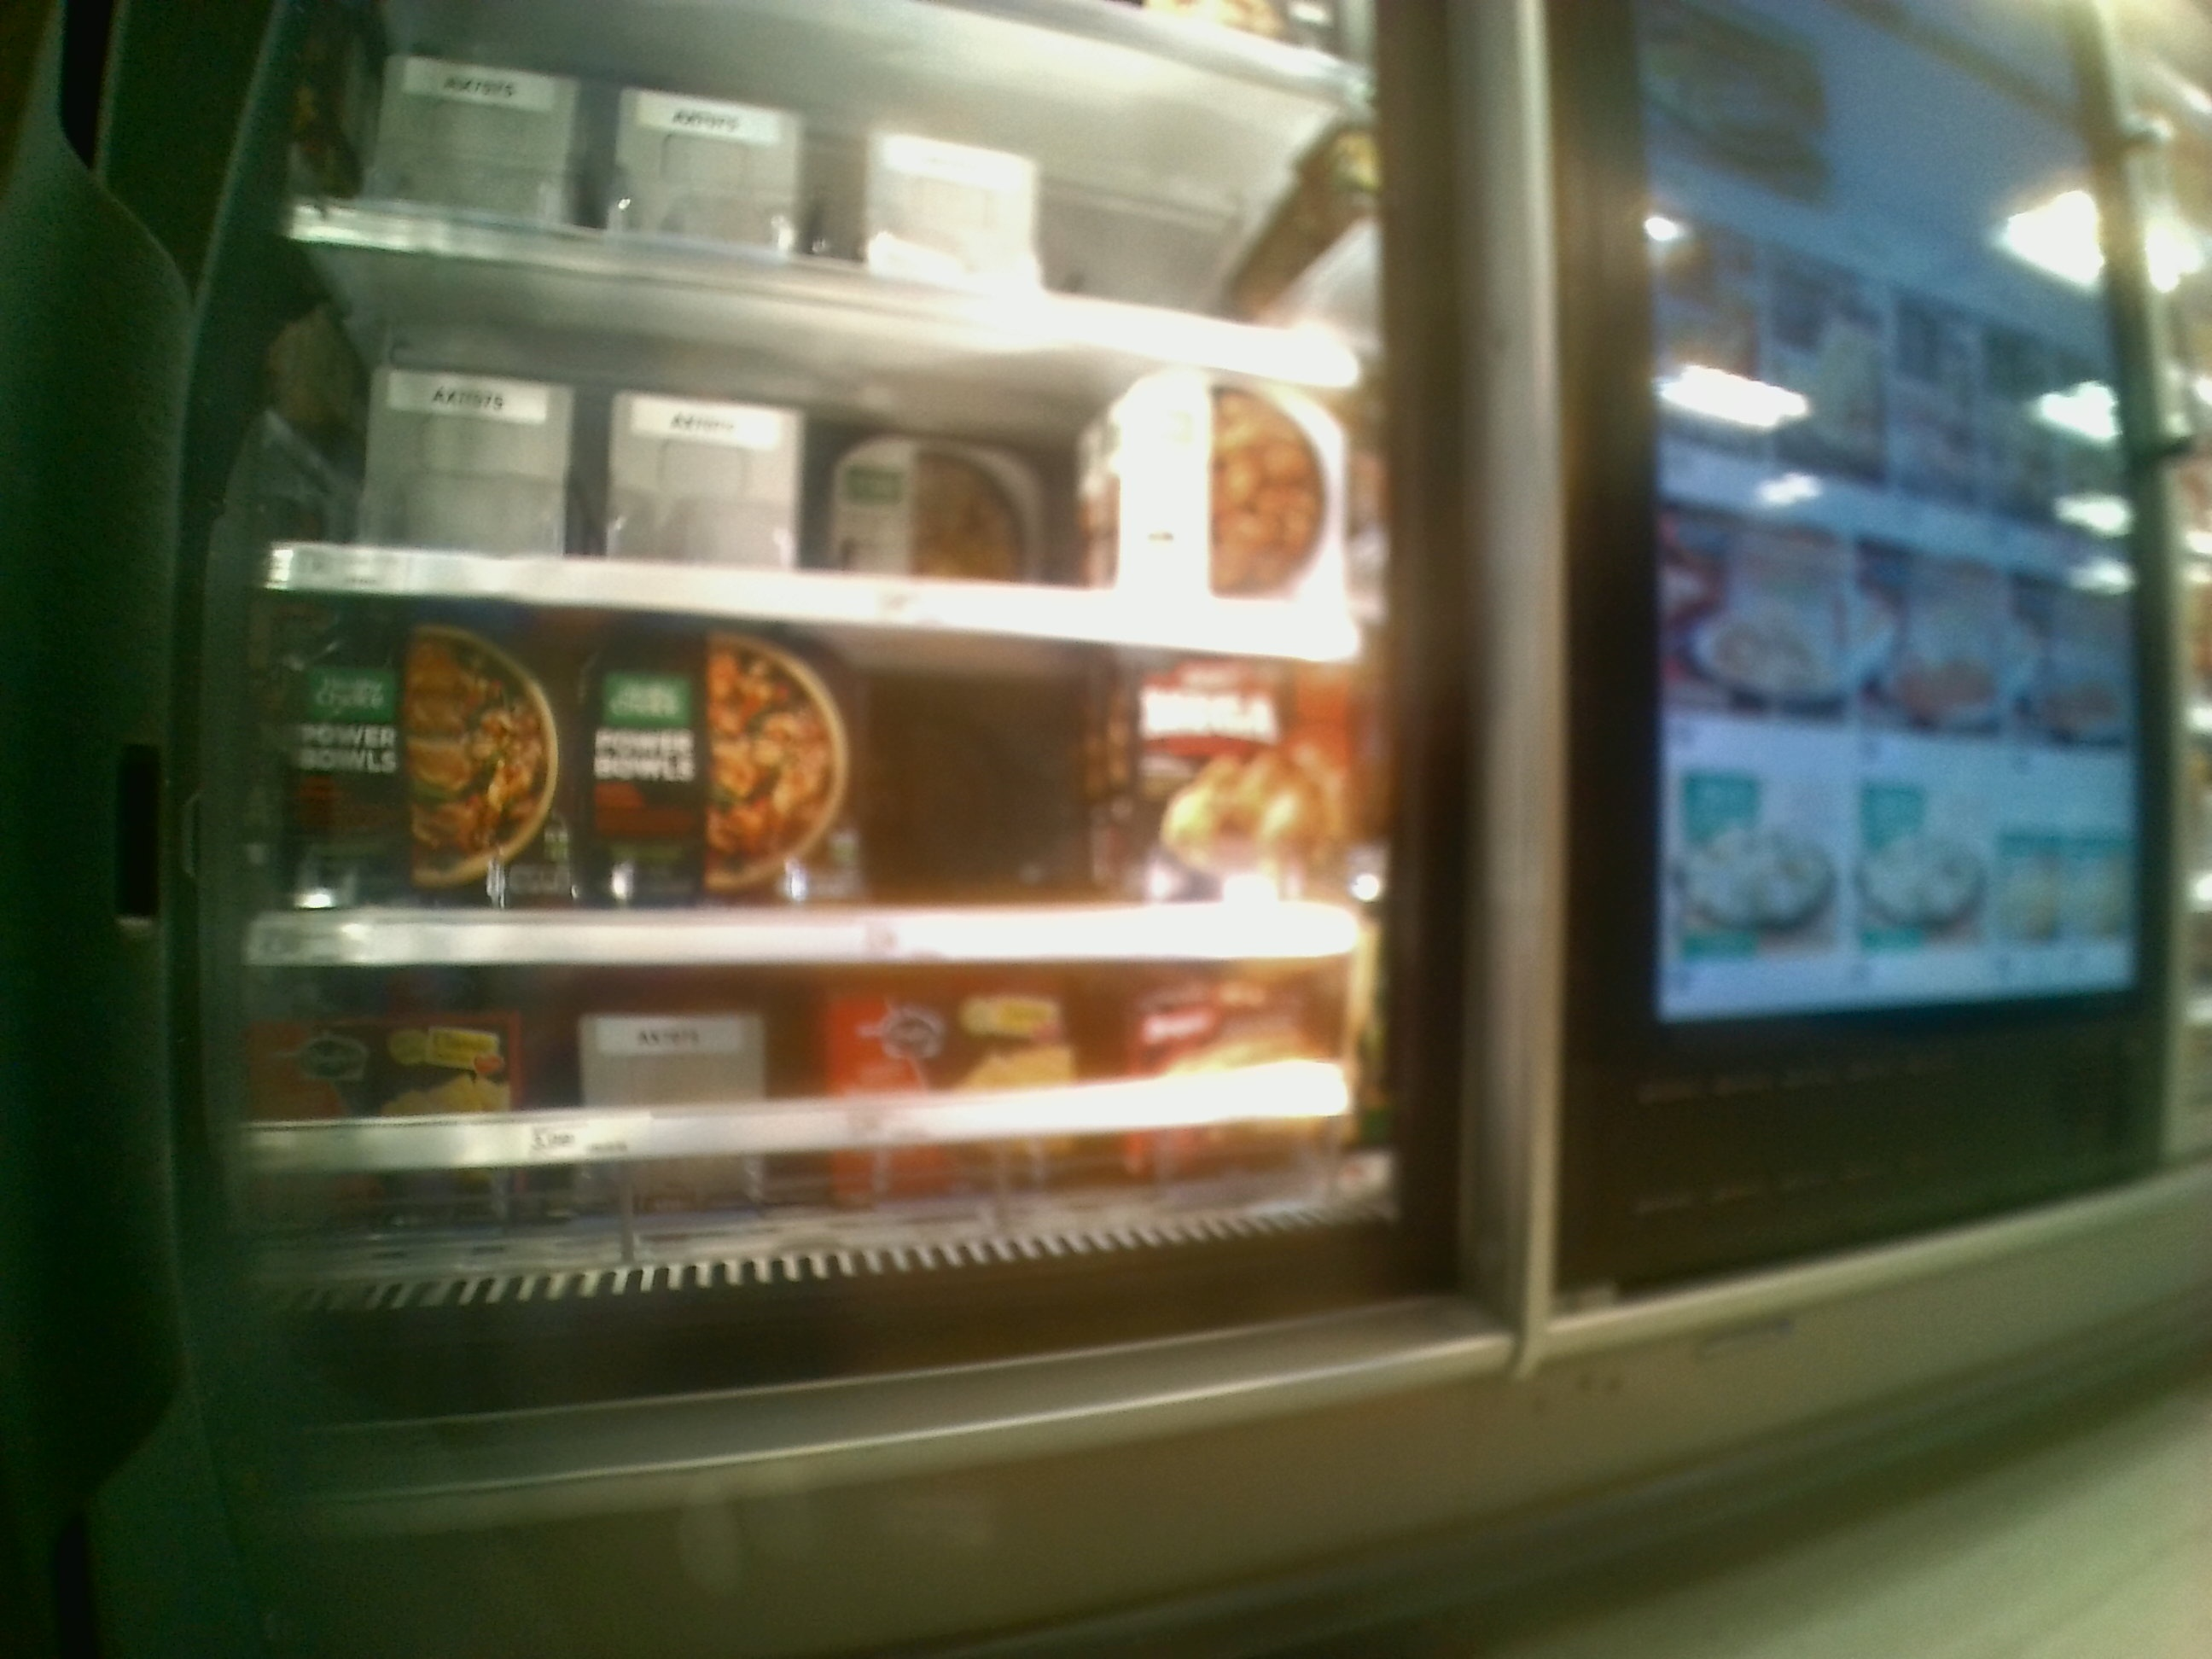shelf: (244, 591, 1366, 962), (240, 967, 1399, 1269)
